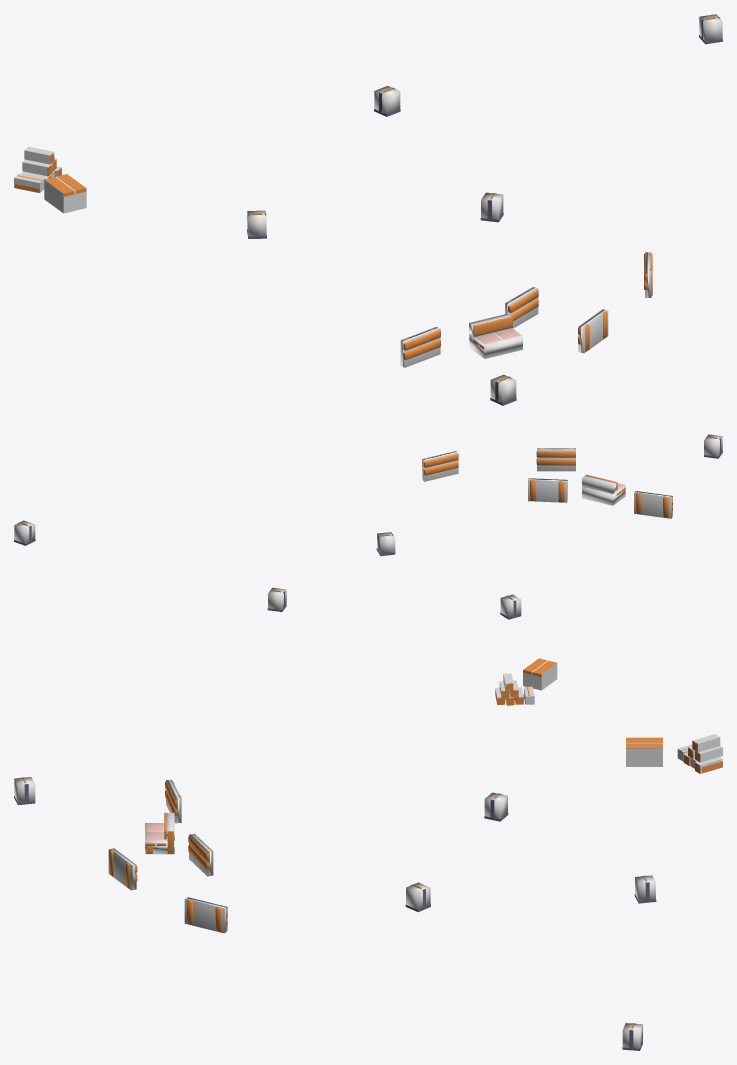
File: sceneryDynamic.glb
The picture shows the model from 3 angles, top to bottom: view 1: azimuth 30°, elevation 25°; view 2: azimuth 150°, elevation 25°; view 3: azimuth 270°, elevation 25°; orthographic projection. The views are drawn at different scales.
Parts seen in each view (by area): view 1: cube, cube.017, bench, cube.004, cube.002, fence.002; view 2: cube.003, cube.002, fence.003, cube.017, cube, fence.004, cube.004, cube.005; view 3: cube.005, cube.017, bench, cube.004.
Boxes of the visible parts, x1,y1,x2,y2 form: cube: (469,328,522,358); cube.017: (44,176,86,213); bench: (473,316,520,349); cube.004: (578,309,608,353); cube.002: (400,327,440,367); fence.002: (403,327,440,360); cube.003: (528,478,567,502); cube.002: (634,491,672,518); fence.003: (536,448,575,465); cube.017: (523,660,557,690); cube: (582,483,625,505); fence.004: (423,451,458,475); cube.004: (537,448,575,471); cube.005: (422,451,458,481); cube.005: (184,897,227,933); cube.017: (626,742,662,766); bench: (145,812,173,853); cube.004: (108,848,136,890).
Bounding box in the file's own units: 34.41 × 1.84 × 33.07.
